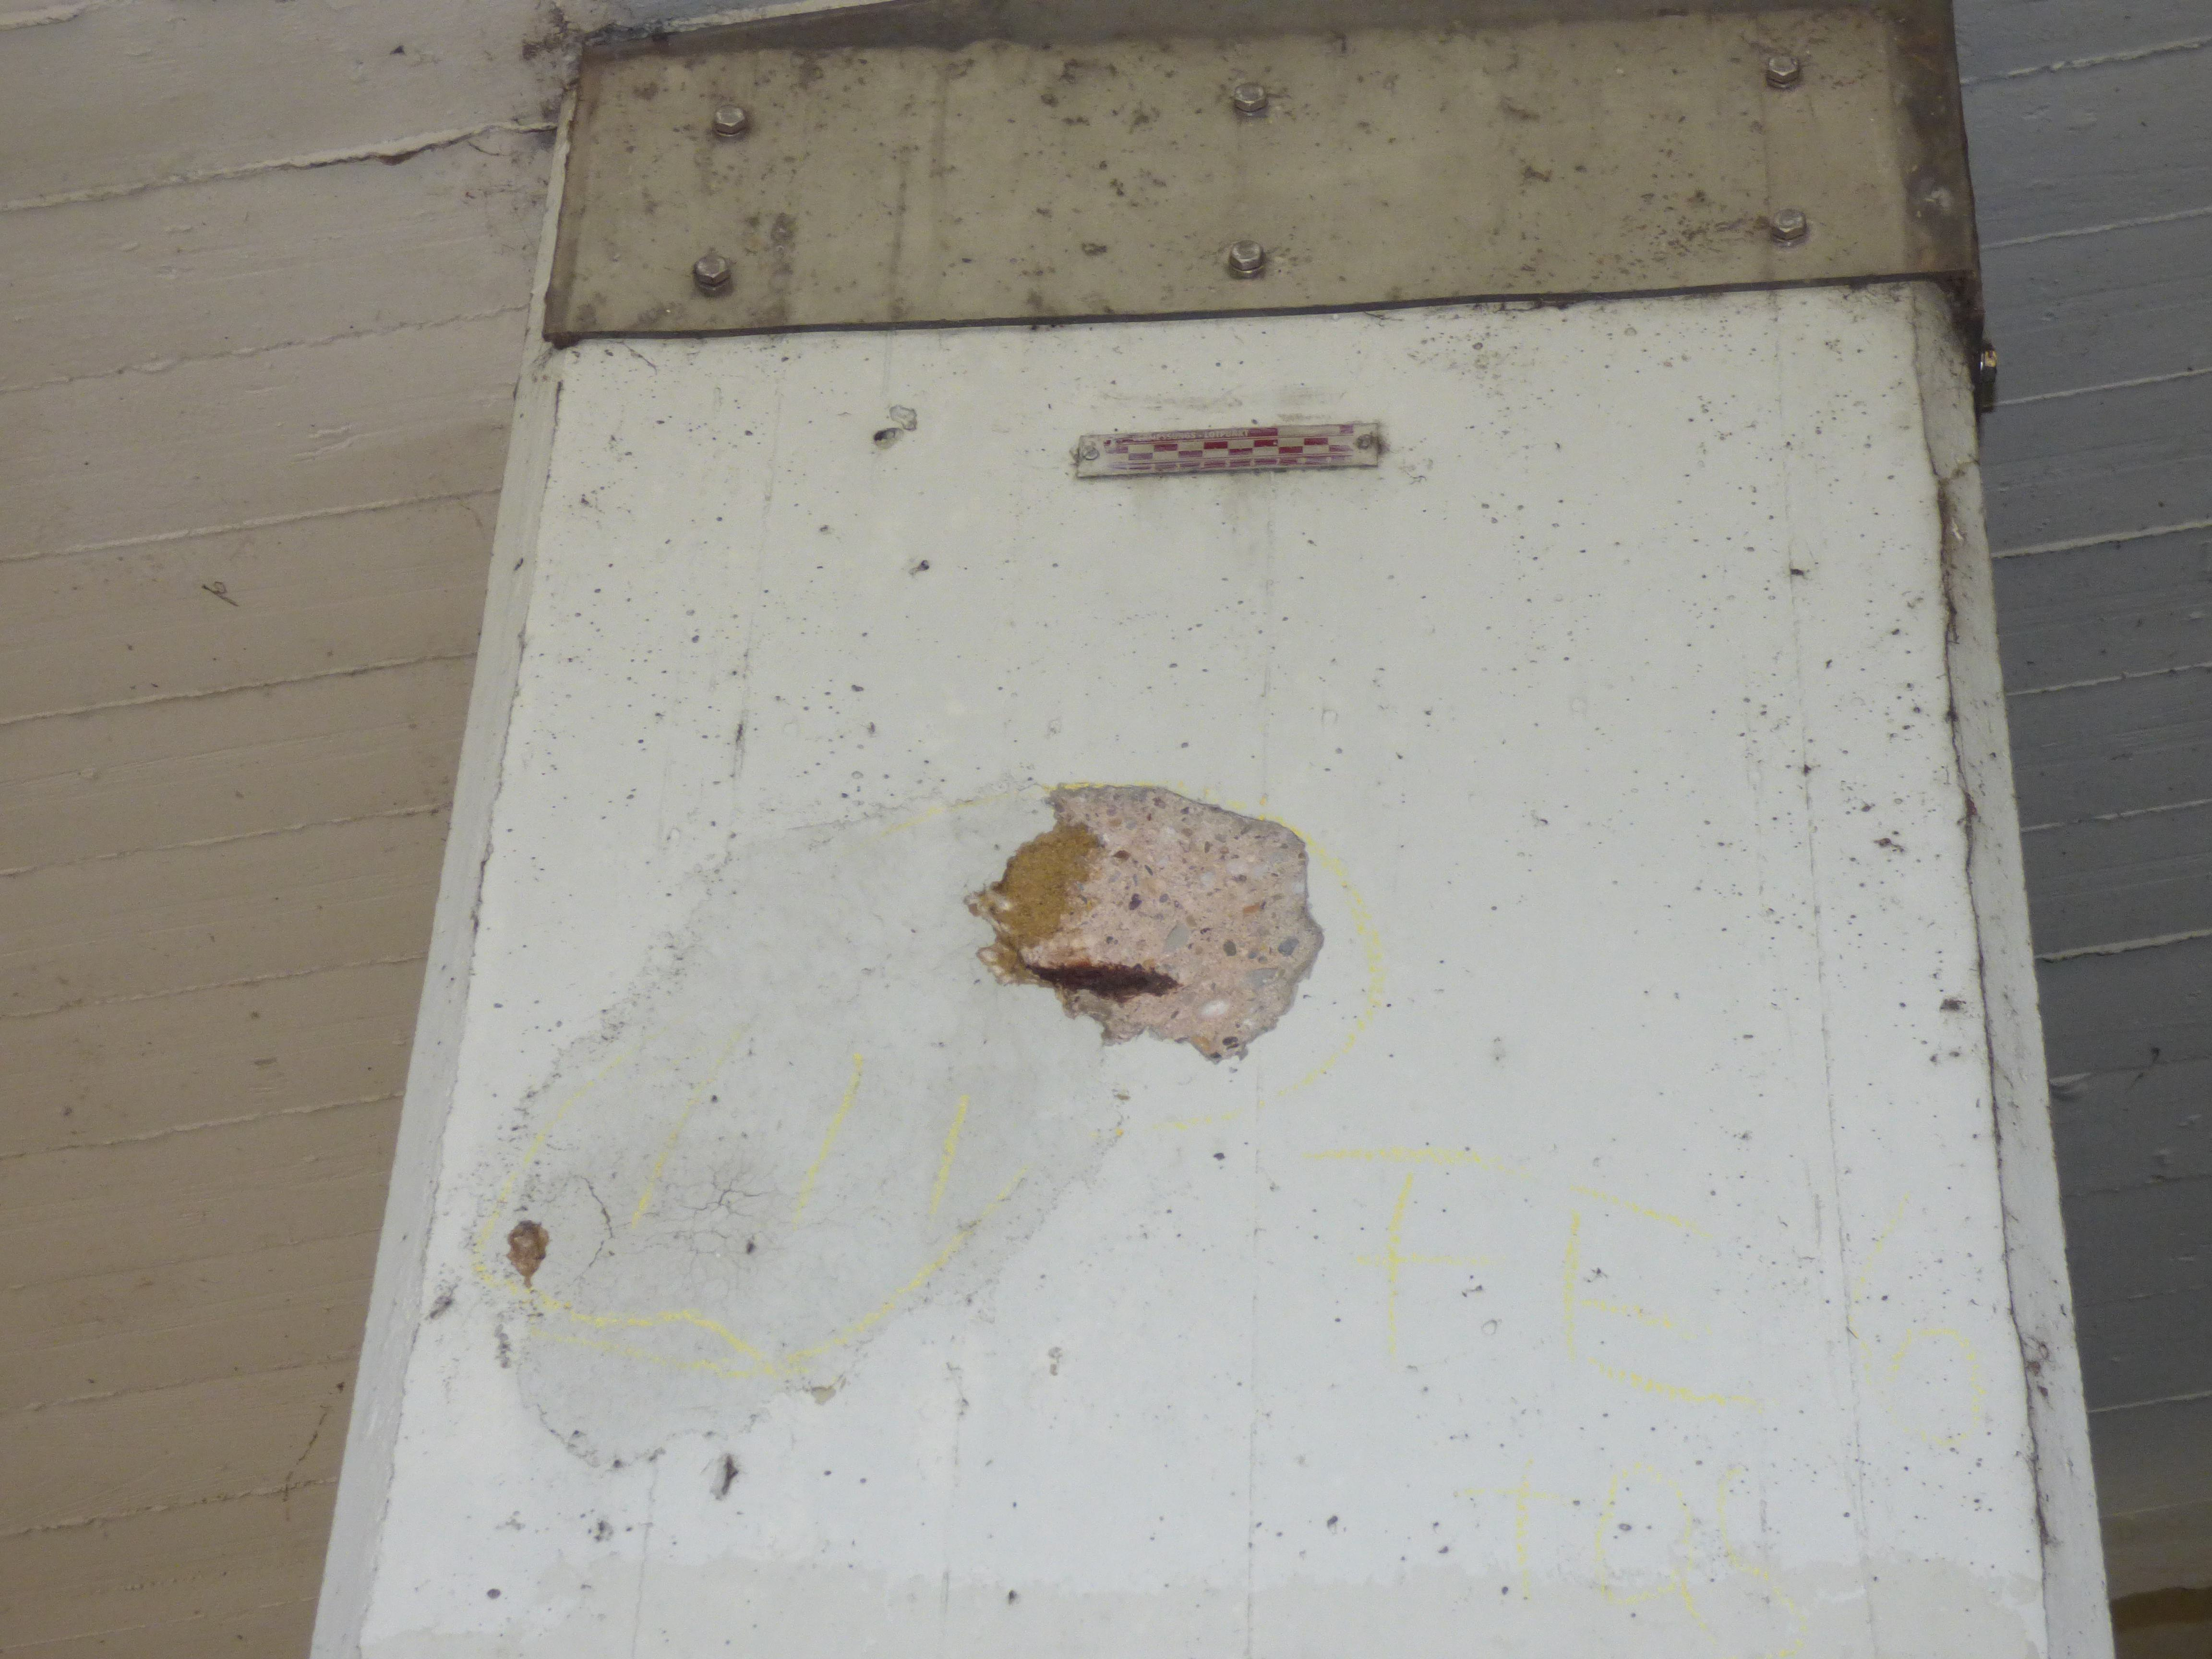Corrosion: (505, 1218, 550, 1288)
Exposed reinforcement: (1026, 958, 1179, 1004)
Spalling: (961, 782, 1325, 1065)
